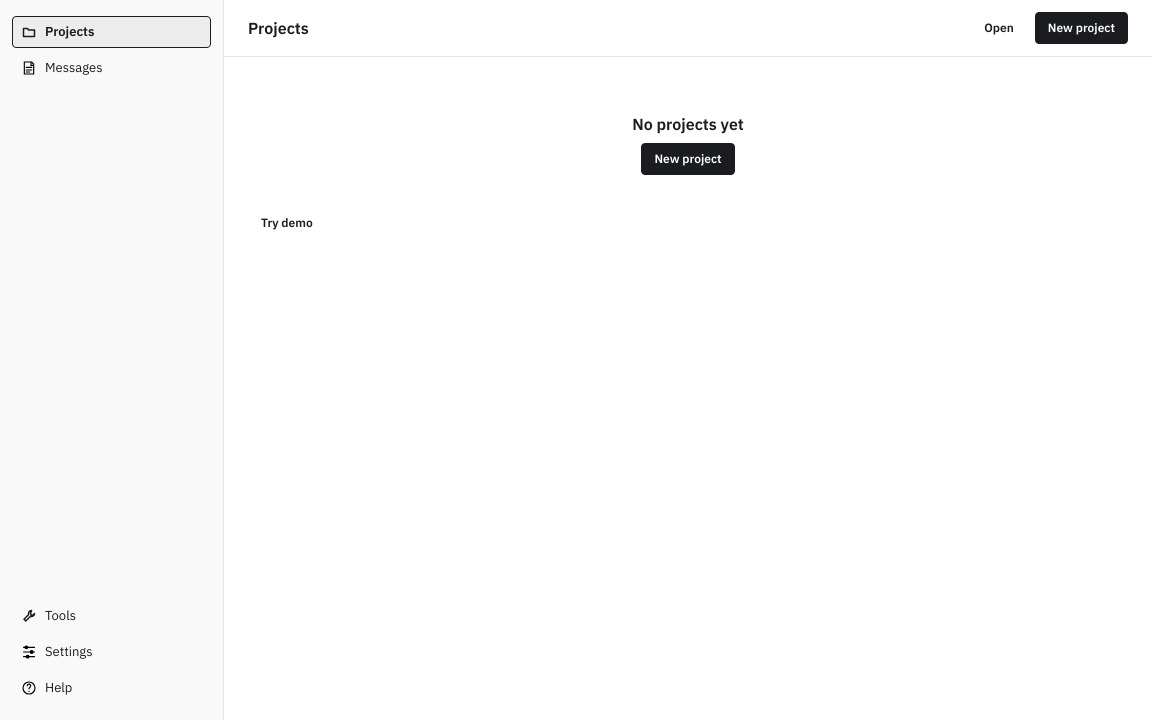
Test case: with no connections Security offers Add connection
Check: the navigation bar named "Main" is shown, box [0,0,224,719]
Click the button "Settings". click: coordinates (112, 652)
box: [12,636,211,668]
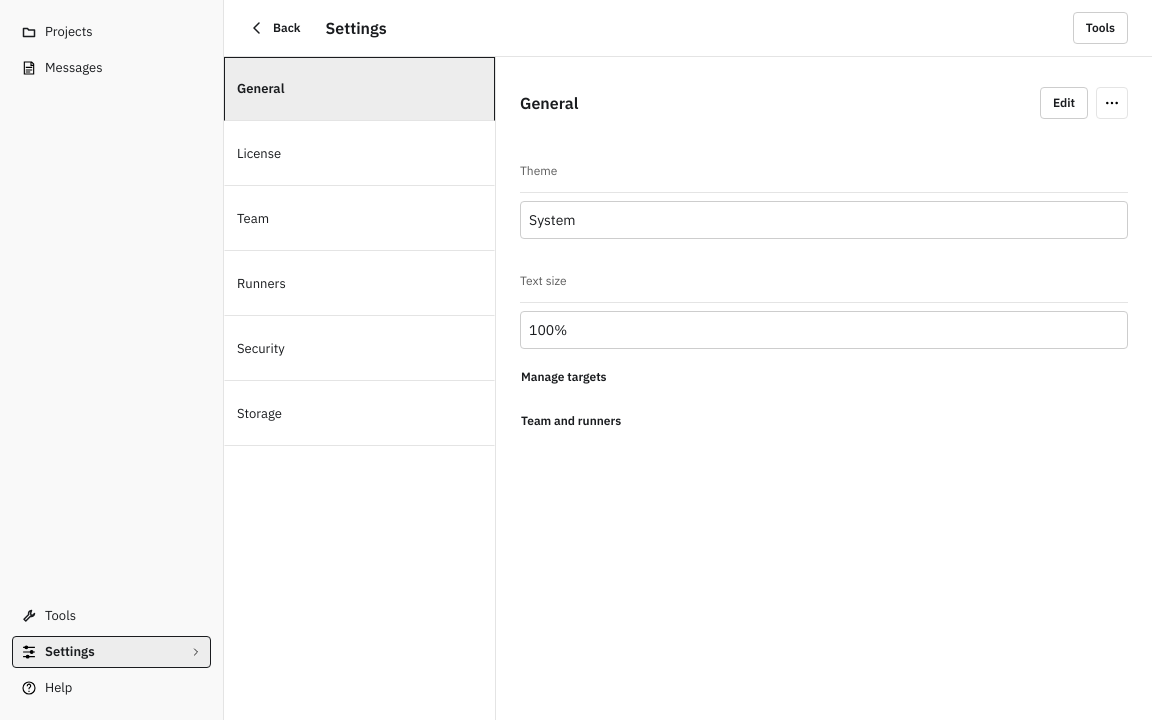
Click the button "Security". click: coordinates (261, 348)
box: [224,317,495,381]
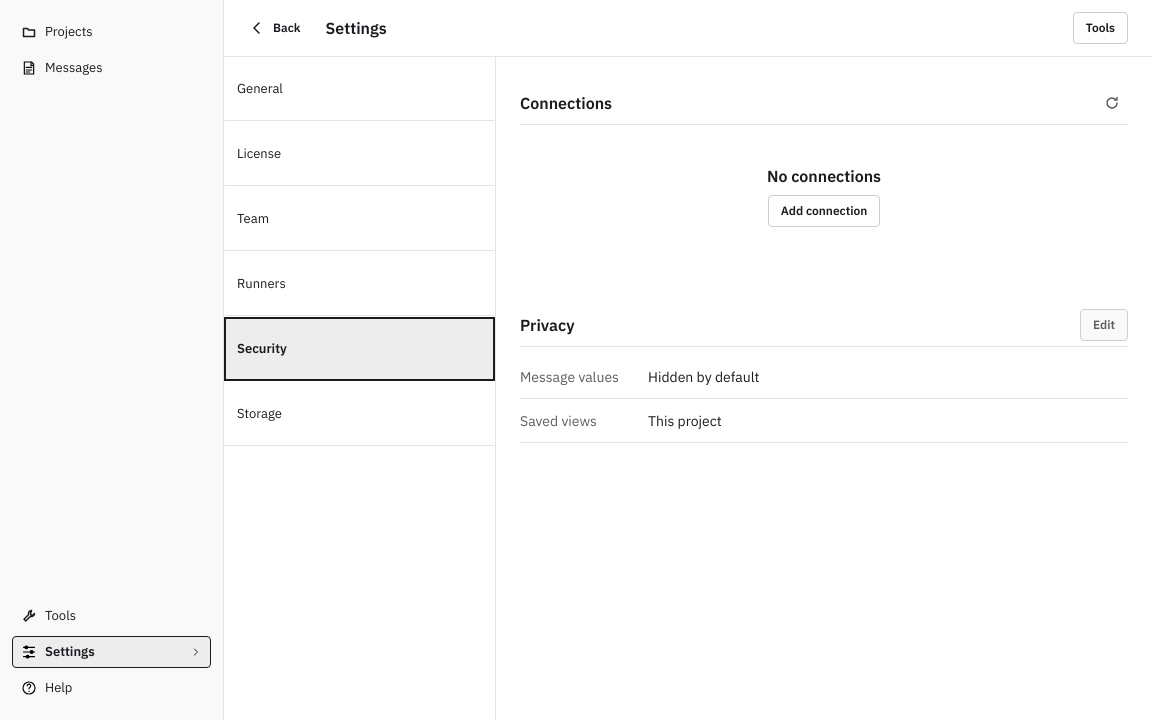
Check: the text "No connections" is shown, box [767,165,881,187]
Check: the button "Add connection" is shown, box [768,195,880,227]
